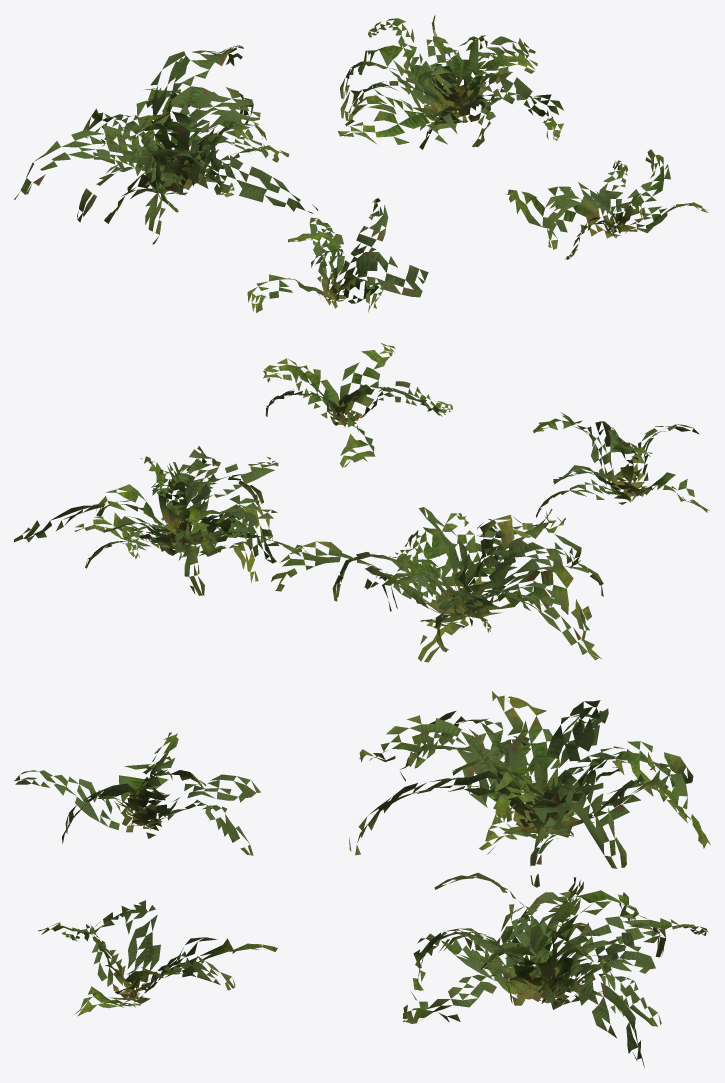
The model's file is fern_02_mobile.glb.
3 renders of one model, top to bottom at view 1: azimuth 30°, elevation 25°; view 2: azimuth 150°, elevation 25°; view 3: azimuth 270°, elevation 25°, orthographic. The views are drawn at different scales.
Parts seen in each view (by area): view 1: fern_02_b, fern_02_c, fern_02_a, fern_02_d; view 2: fern_02_b, fern_02_c, fern_02_d, fern_02_a; view 3: fern_02_b, fern_02_c, fern_02_a, fern_02_d.
Part boxes in pixels (<box>): fern_02_b: <box>14,45,318,244</box>; fern_02_c: <box>338,15,563,149</box>; fern_02_a: <box>247,198,428,313</box>; fern_02_d: <box>506,149,708,259</box>; fern_02_b: <box>271,507,603,662</box>; fern_02_c: <box>14,446,308,595</box>; fern_02_d: <box>263,343,452,467</box>; fern_02_a: <box>533,412,709,517</box>; fern_02_b: <box>349,691,710,887</box>; fern_02_c: <box>403,872,708,1067</box>; fern_02_a: <box>14,732,260,855</box>; fern_02_d: <box>38,900,277,1016</box>.
Size of the model in its own units: 1.97 by 0.4148 by 1.72.
1 material, 1 textured.
